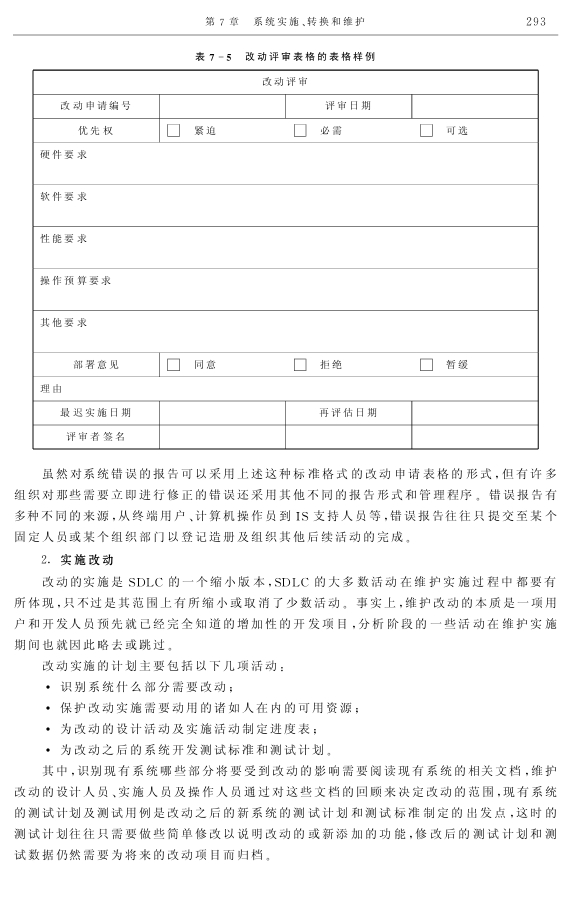table: (32, 69, 540, 451)
